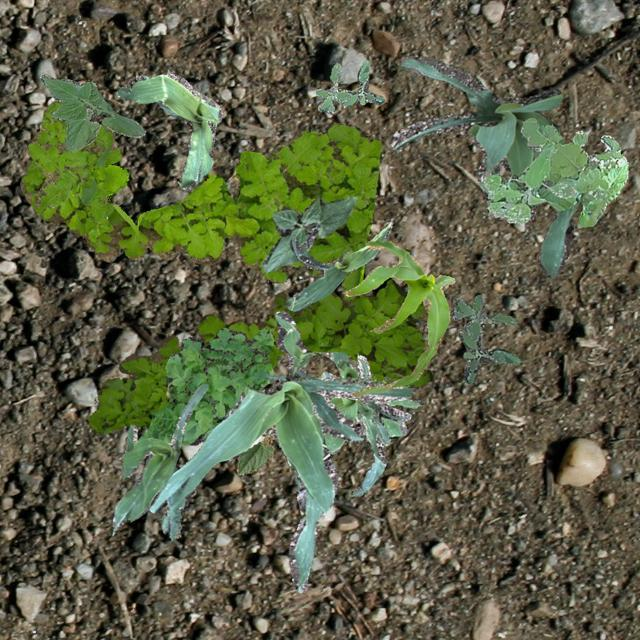crop: (148, 309, 412, 592), (389, 55, 576, 276), (342, 240, 453, 396), (111, 384, 208, 530), (320, 354, 410, 496), (116, 74, 222, 190), (284, 222, 391, 310), (318, 350, 420, 436), (38, 74, 144, 150), (260, 196, 356, 272), (235, 432, 272, 474)
weed: (18, 100, 380, 300), (88, 278, 432, 432), (138, 326, 272, 444), (520, 117, 626, 226), (27, 117, 118, 220), (480, 142, 574, 222), (450, 294, 520, 382), (314, 59, 384, 112)
